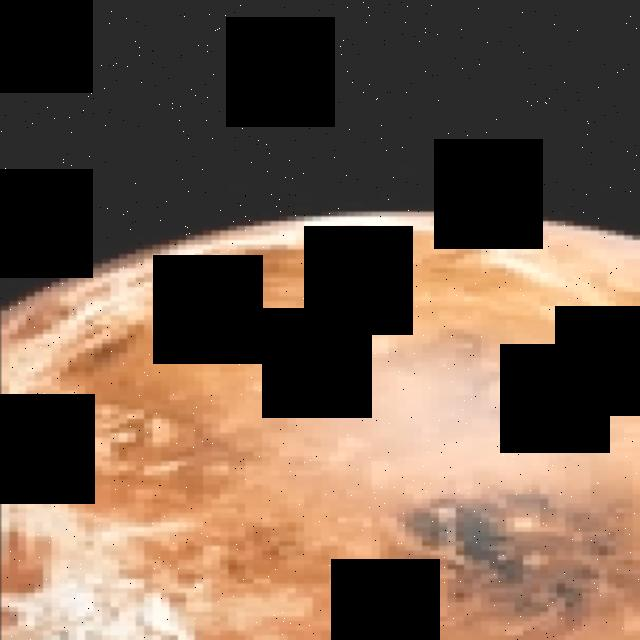Venus: (0, 212, 640, 640)
